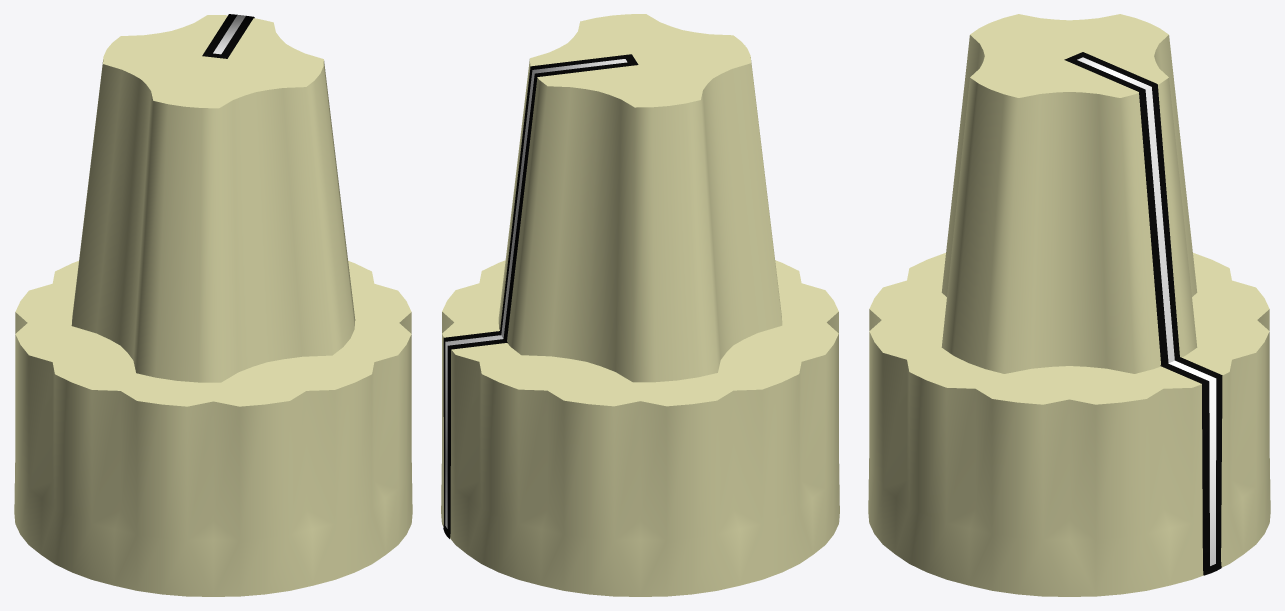
File: Dual_Rotating_Dial_V1.fbx
3 renders of one model, left to right at view 1: azimuth 30°, elevation 25°; view 2: azimuth 150°, elevation 25°; view 3: azimuth 270°, elevation 25°, orthographic.
Parts seen in each view (by area): view 1: BottomDial, Top_Dial, Trim_2; view 2: BottomDial, Top_Dial, Trim_2, Trim_1; view 3: BottomDial, Top_Dial, Trim_2, Trim_1.
Boxes of the visible parts, x1,y1,x2,y2 form: BottomDial: [14, 261, 412, 596]; Top_Dial: [71, 15, 355, 382]; Trim_2: [202, 14, 254, 58]; BottomDial: [441, 260, 839, 596]; Top_Dial: [498, 14, 782, 382]; Trim_2: [500, 54, 638, 341]; Trim_1: [443, 331, 507, 538]; BottomDial: [868, 253, 1270, 596]; Top_Dial: [941, 14, 1197, 373]; Trim_2: [1064, 52, 1179, 365]; Trim_1: [1160, 357, 1222, 575].
Bounding box in the file's own units: 2.18 × 2.74 × 2.18.
